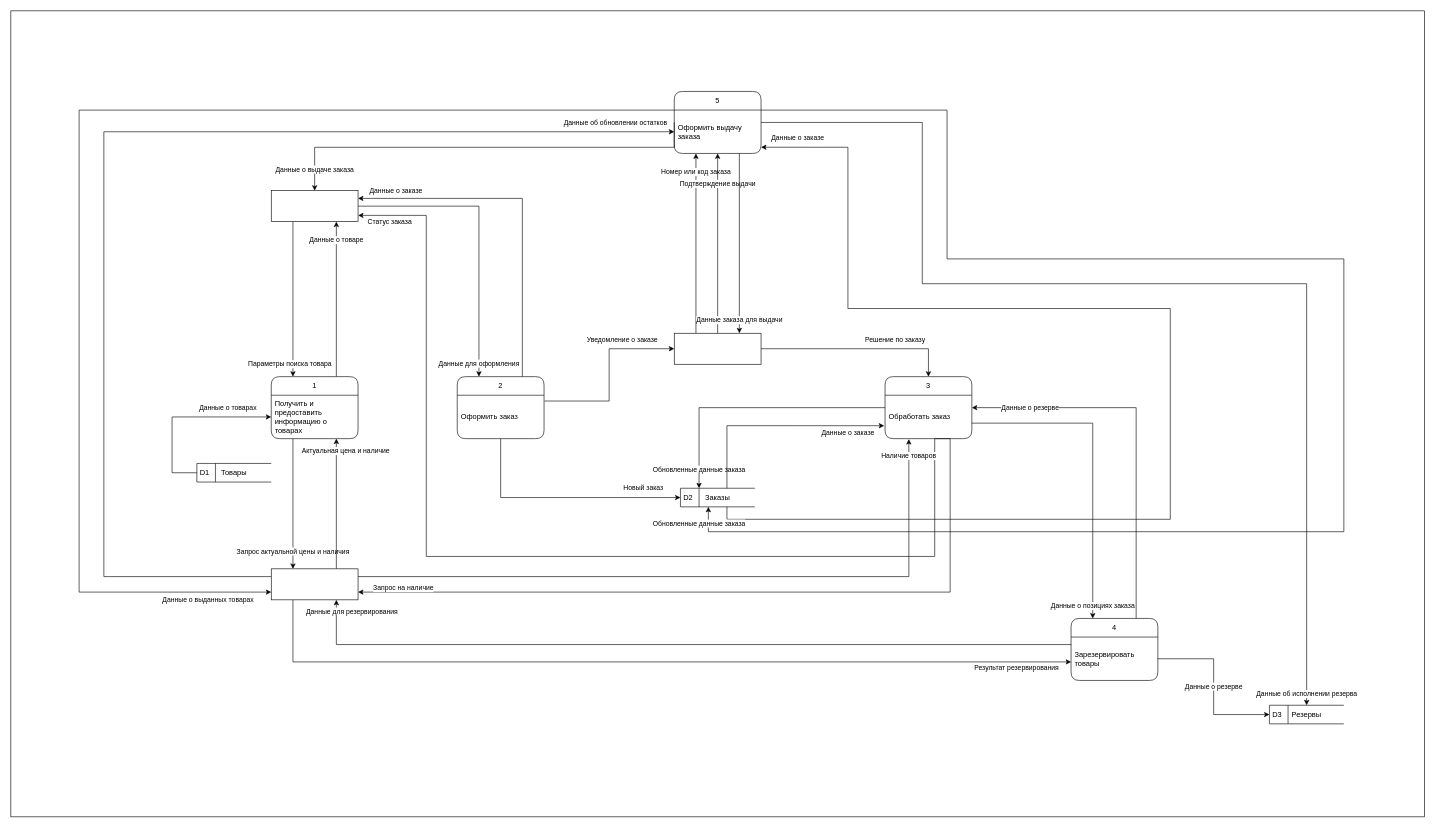
The diagram is 1435 pixels wide and 828 high, and some of its shapes have lost their labels. The centre of each missing label's shape, as x and y in pixels:
"Покупатель" belongs at (314,206).
"Товароучетная система" belongs at (314,584).
"Фармацевт" belongs at (717,348).
